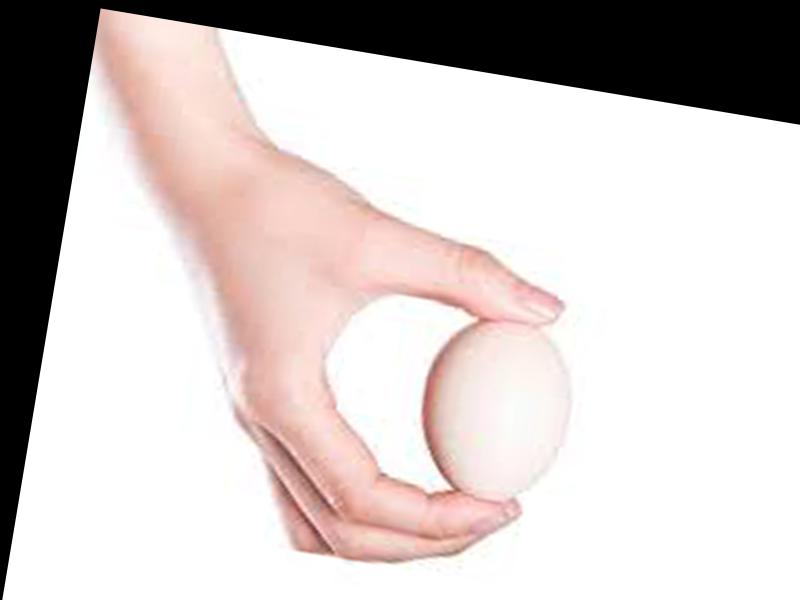Eggs: (408, 306, 583, 513)
